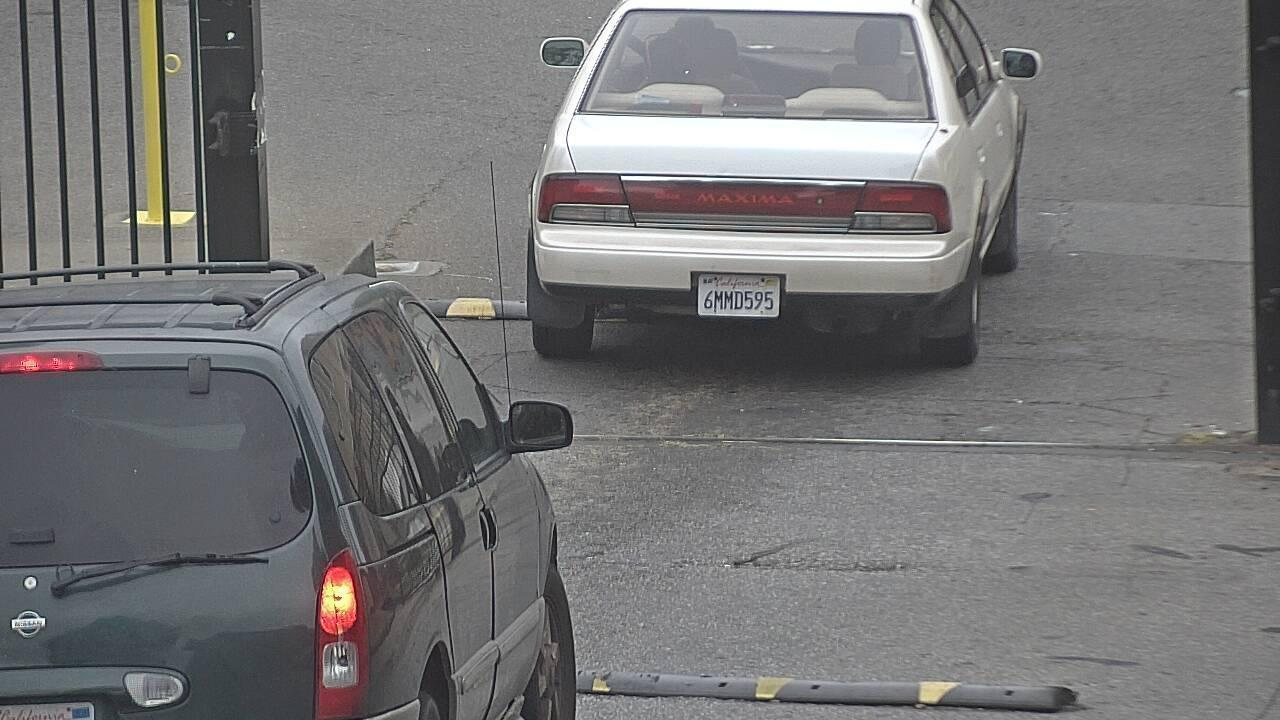placa de veiculo: (676, 256, 803, 351)
